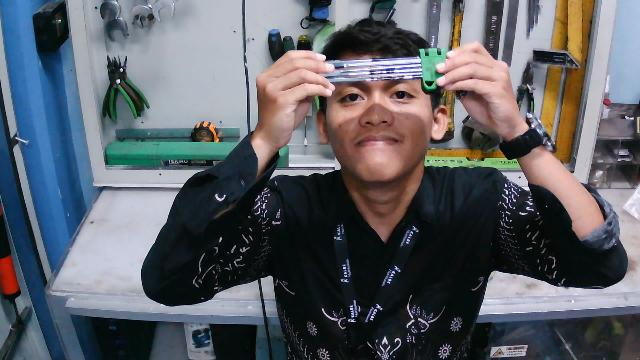kunci_l: (295, 45, 465, 96)
